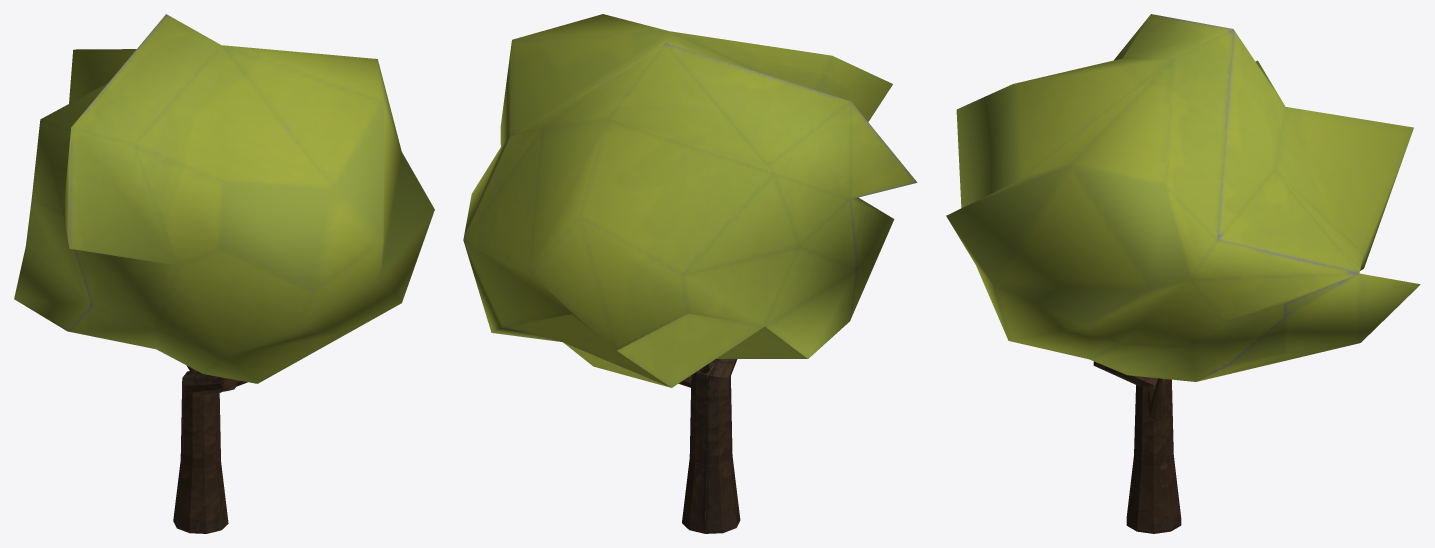
The model's file is tree2.fbx.
3 renders of one model, left to right at view 1: azimuth 30°, elevation 25°; view 2: azimuth 150°, elevation 25°; view 3: azimuth 270°, elevation 25°, orthographic. The views are drawn at different scales.
Parts seen in each view (by area): view 1: polySurface6, polySurface3; view 2: polySurface6, polySurface3; view 3: polySurface6, polySurface3, polySurface4.
Part boxes in pixels (x1,y1,x2,y2): polySurface6: (14, 14, 434, 383); polySurface3: (173, 371, 237, 533); polySurface6: (463, 14, 917, 387); polySurface3: (682, 359, 740, 533); polySurface6: (946, 14, 1420, 381); polySurface3: (1093, 361, 1181, 533); polySurface4: (1148, 378, 1168, 420).
Size of the model in its own units: 154 by 193 by 168.
